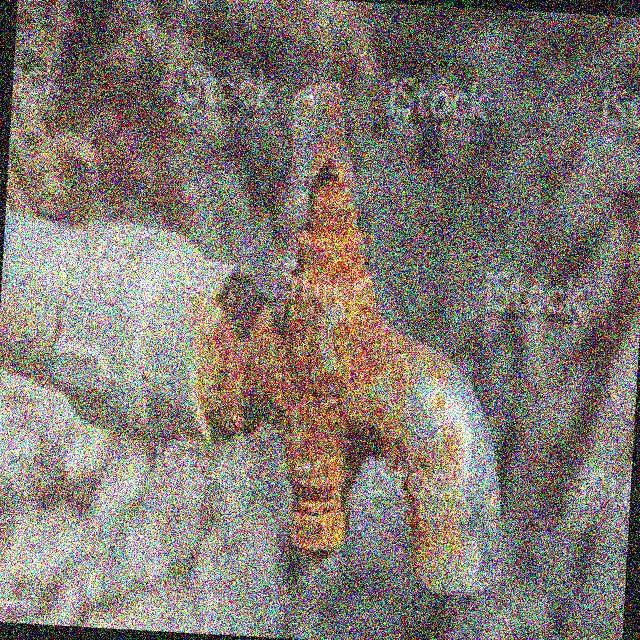rust: (220, 160, 452, 447)
